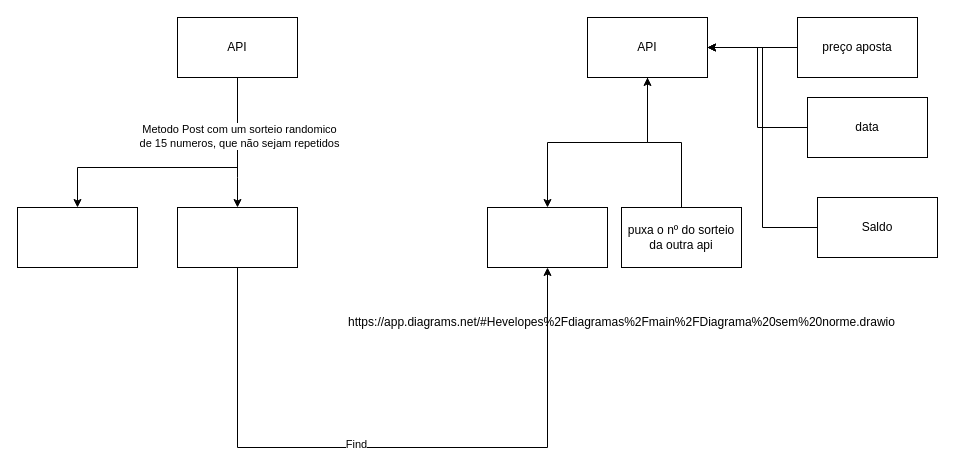
Some shapes in this 955 by 473 pixel diagram are drawn without their labels. The centre of each missing label's shape, as x and y in pixels:
"array 15 numeros" belongs at point 237,237.
"Faz um post de 15 a 20 numeros" belongs at point 547,237.
"nº sorteio" belongs at point 77,237.
